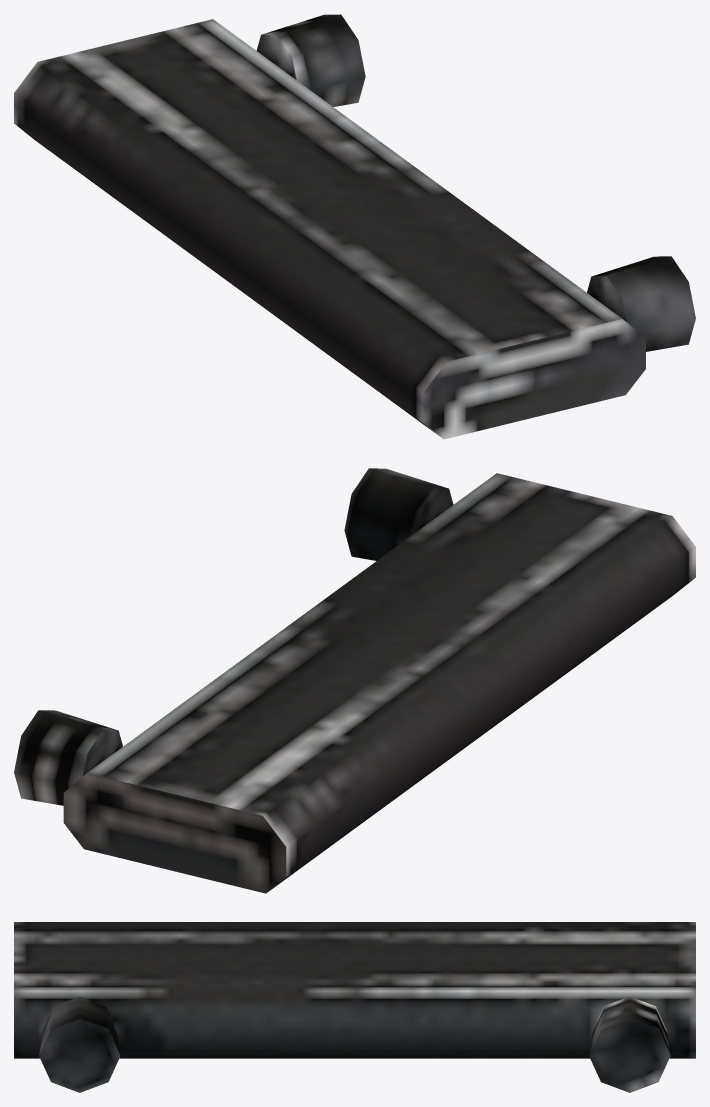
The picture shows the model from 3 angles, top to bottom: view 1: azimuth 30°, elevation 25°; view 2: azimuth 150°, elevation 25°; view 3: azimuth 270°, elevation 25°; orthographic projection. The views are drawn at different scales.
Parts seen in each view (by area): view 1: TA51; view 2: TA51; view 3: TA51.
Part boxes in pixels (x1,y1,x2,y2): TA51: [14, 14, 695, 439]; TA51: [14, 468, 695, 893]; TA51: [14, 922, 695, 1092].
Bounding box in the file's own units: 0.0047 × 0.0165 × 0.0392.
